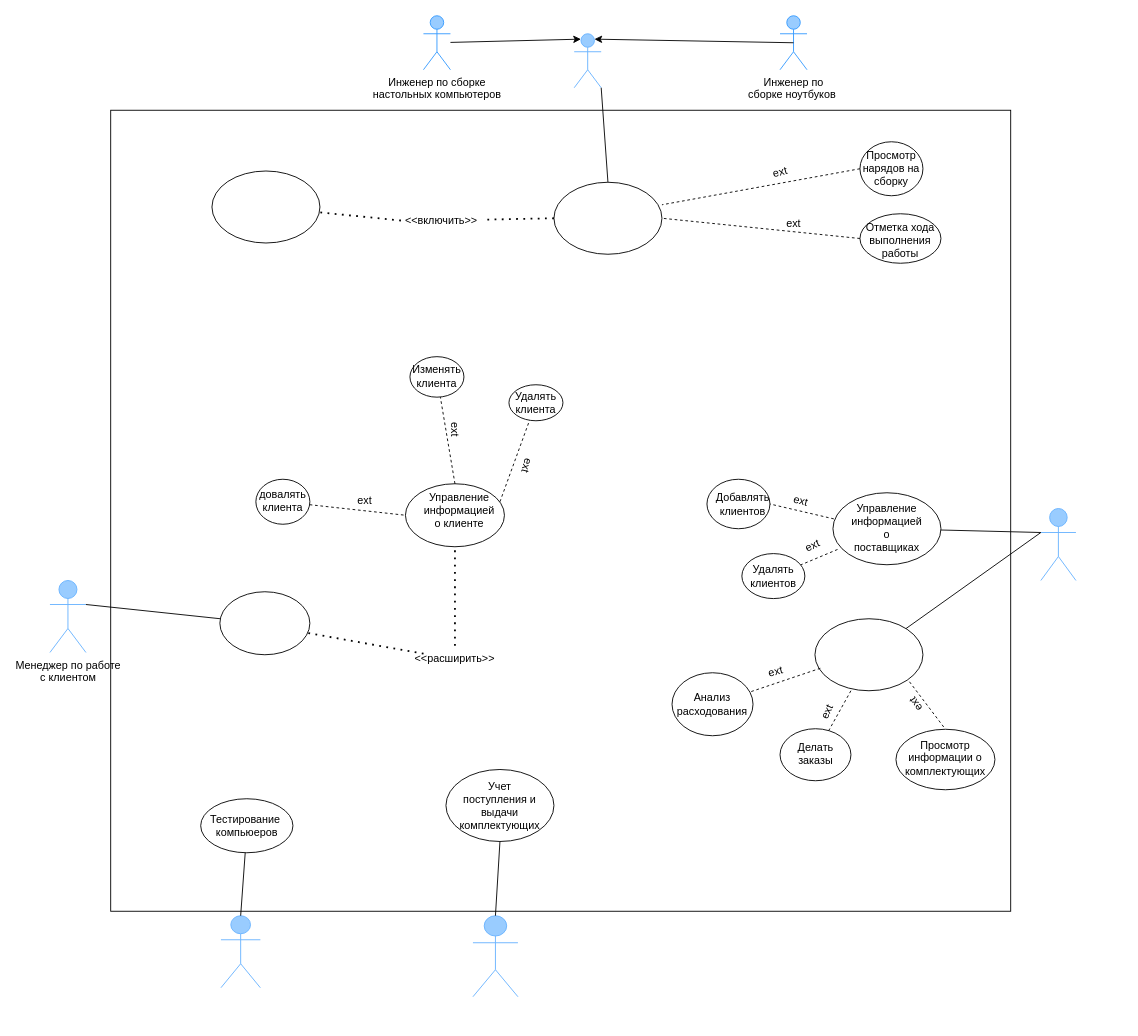
This 1138x1036 diagram has some shape labels left out. The centre of each missing label's shape, as x and y in pixels:
Завскладом: point 495,956
Инженер по сборке: point 587,60
Инженер по тестированию: point 240,951
Менеджер по снабжению: point 1058,544
Работа с заказом: point 264,623
Сборка компьютеров: point 607,217
Требование необходимых комплектующих: point 265,206
Управление информацией о комплектующих: point 868,654
